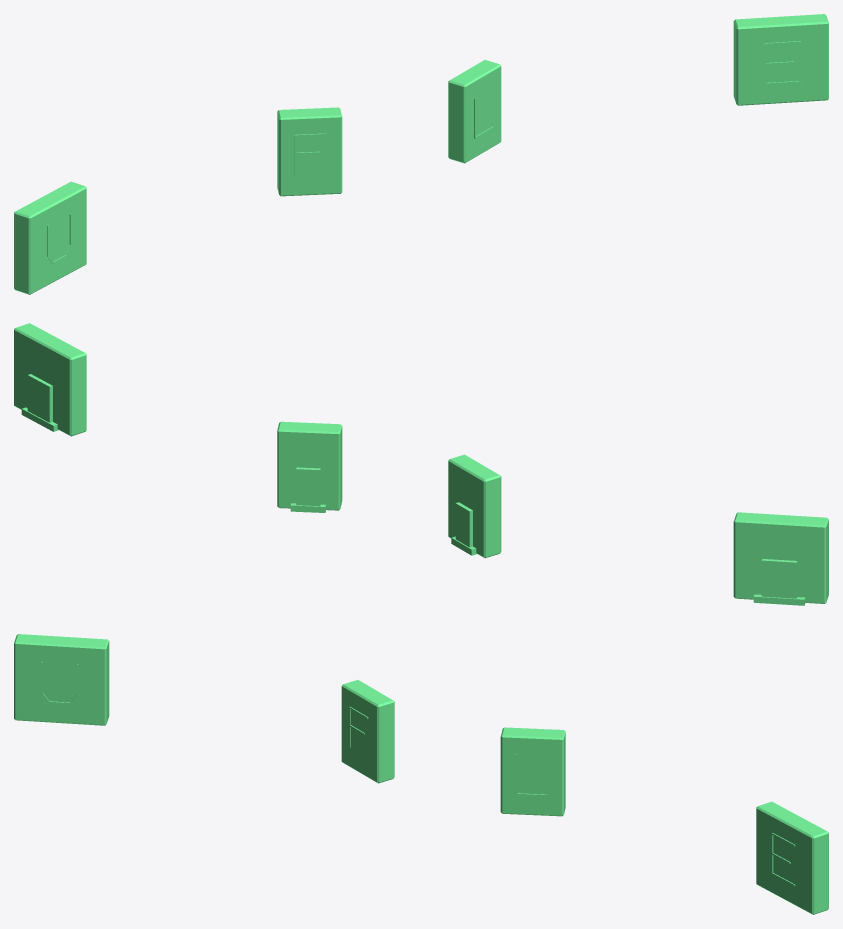
Rendered from Space_Targets.glb.
3 views of the same model, one above another, from view 1: azimuth 30°, elevation 25°; view 2: azimuth 150°, elevation 25°; view 3: azimuth 330°, elevation 25° (orthographic).
Parts seen in each view (by area): view 1: Standup4, Standup3, Standup1, Standup2; view 2: Standup3, Standup4, Standup2, Standup1; view 3: Standup3, Standup4, Standup2, Standup1.
Part boxes in pixels (<box>): Standup4: <box>733,14,828,105</box>; Standup3: <box>14,181,86,294</box>; Standup1: <box>277,107,342,196</box>; Standup2: <box>448,60,501,163</box>; Standup3: <box>733,512,828,605</box>; Standup4: <box>14,323,86,436</box>; Standup2: <box>277,421,342,512</box>; Standup1: <box>448,454,501,558</box>; Standup3: <box>14,634,109,725</box>; Standup4: <box>756,801,828,914</box>; Standup2: <box>500,727,565,816</box>; Standup1: <box>341,680,394,783</box>.
Bounding box in the file's own units: 0.3629 × 0.0336 × 0.0373.
